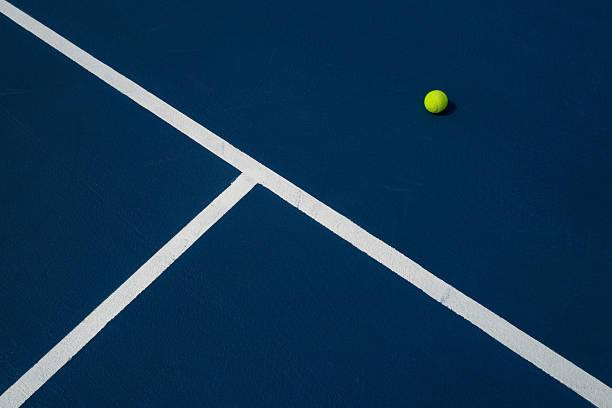ball_tennis: (424, 90, 449, 114)
